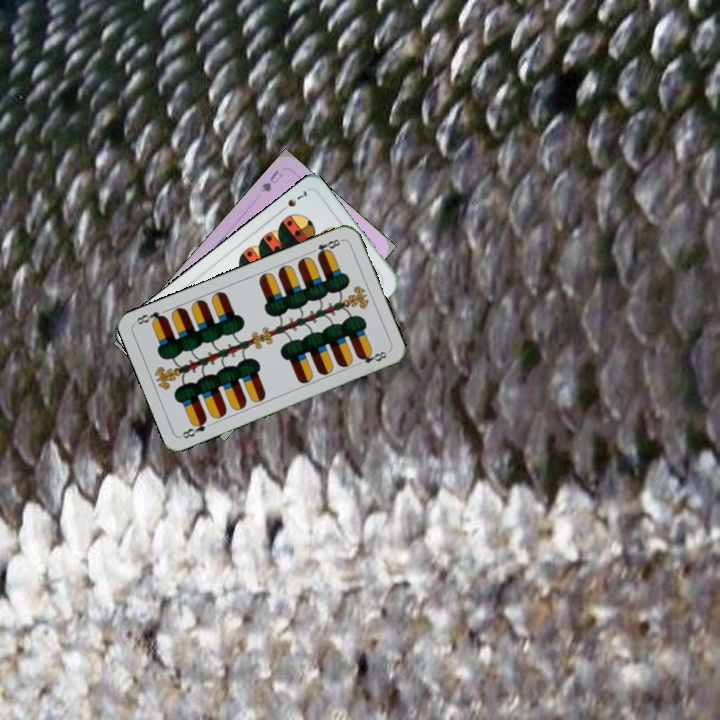E8: (177, 414, 216, 441), (306, 235, 345, 260)
GU: (257, 166, 285, 195)
S7: (276, 187, 311, 215)
